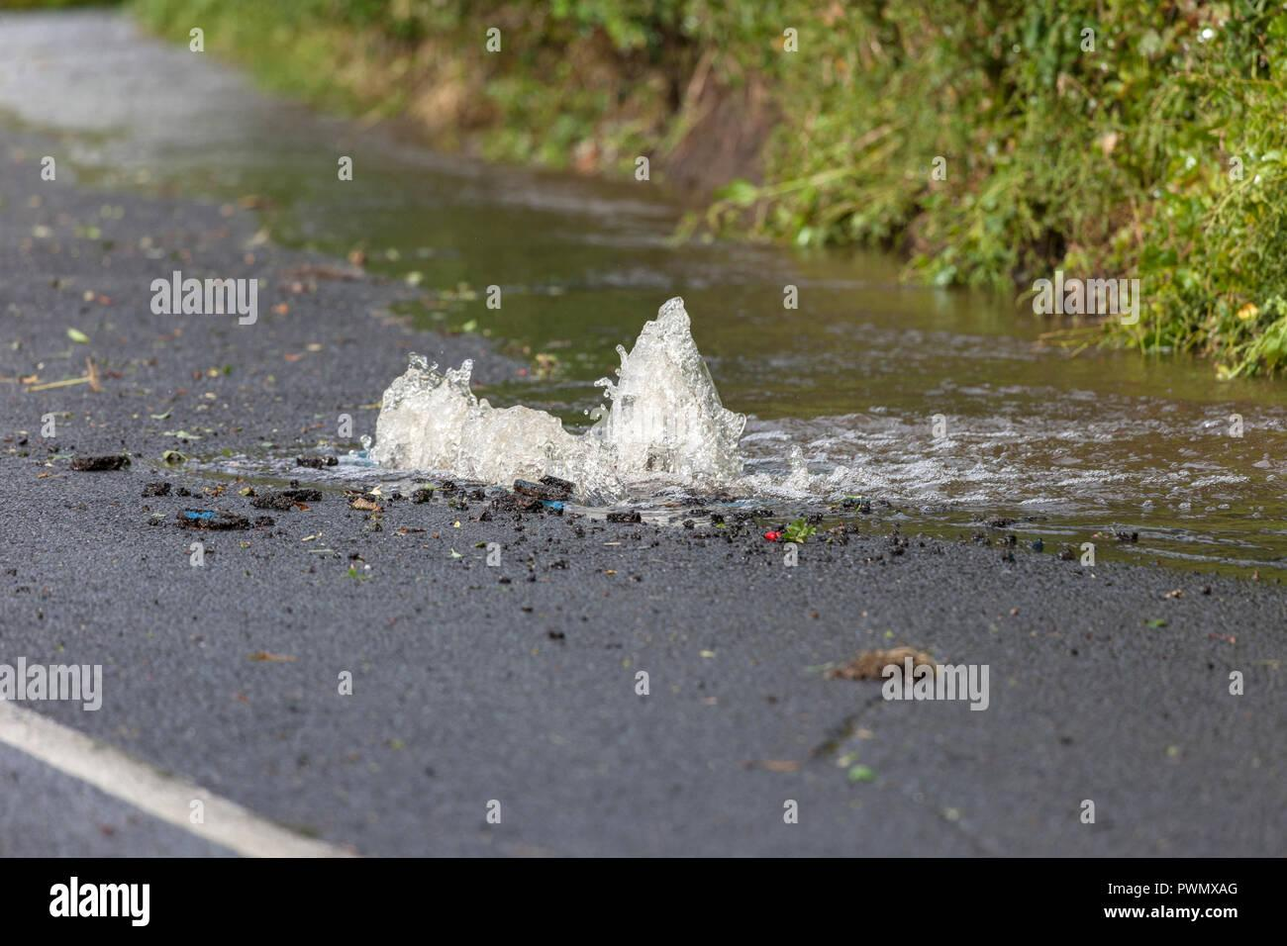water_leak: (363, 265, 1053, 503)
